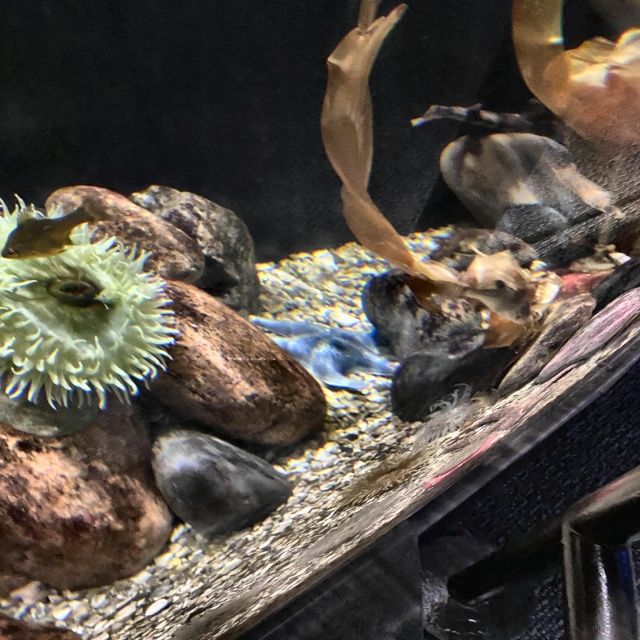fish: (0, 192, 127, 261), (455, 280, 531, 326)
starfish: (246, 314, 398, 390)
